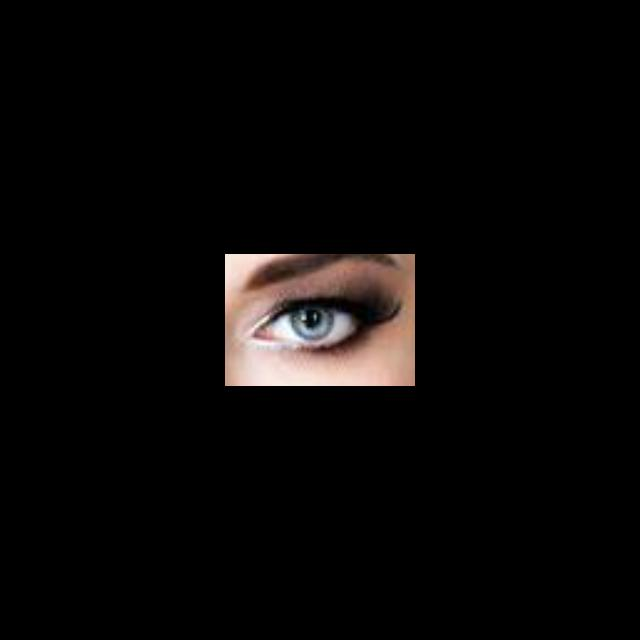eye: (272, 308, 354, 343)
iris: (292, 308, 334, 340)
